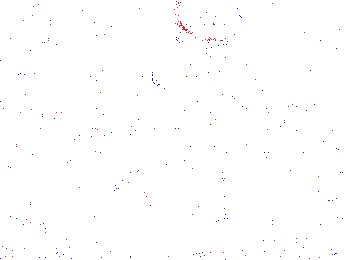moon jellyfish: (88, 1, 177, 71), (149, 36, 232, 86), (271, 1, 346, 49), (167, 1, 234, 47)
